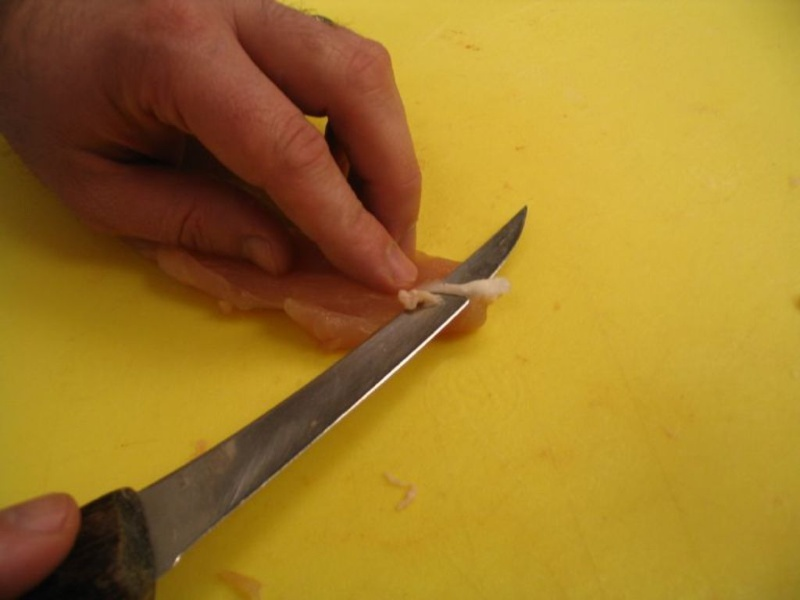knife: (18, 201, 532, 598)
